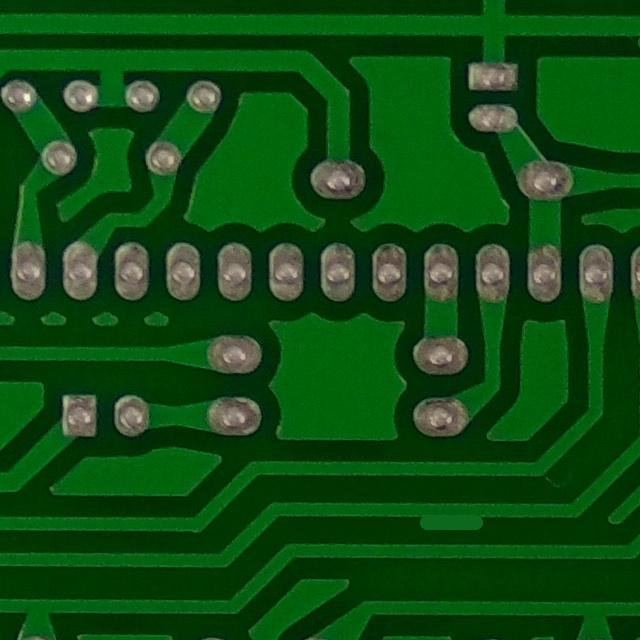spur: (406, 495, 491, 541)
